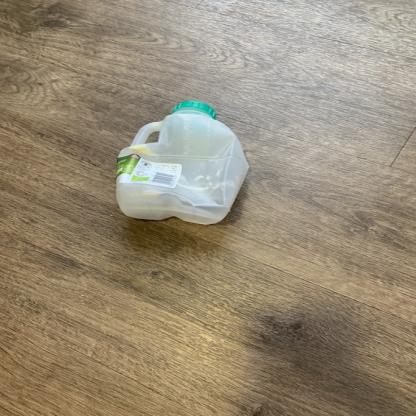trash: (112, 102, 258, 228)
